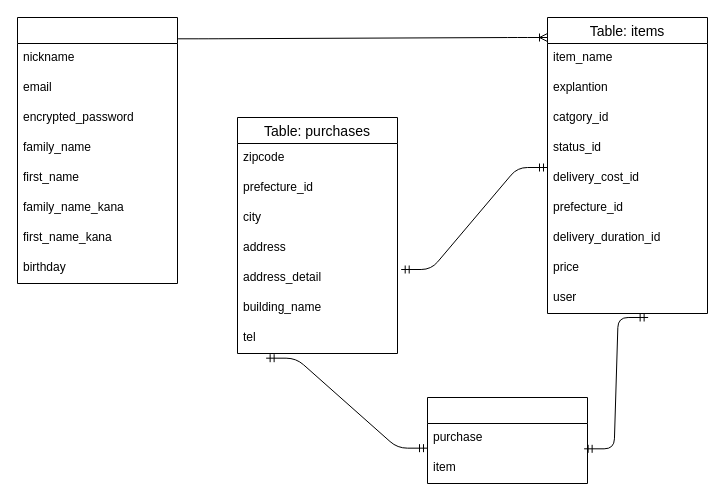
Image size: 725x504. Some labels were removed from this diagram. The box of each missing label's shape, as (x1, y1, x2, y2) in pixels:
Table: purchase_records: (426, 396, 588, 484)
Table: users: (16, 16, 178, 284)
